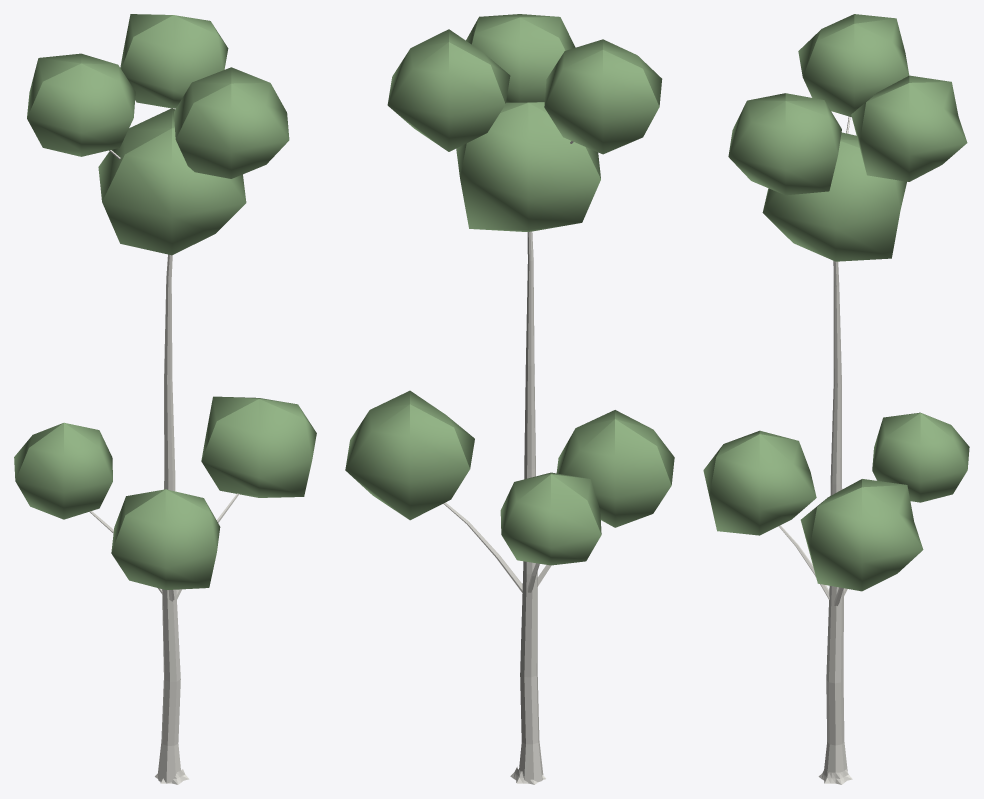
File: dense-temperate-forest-flora-hornbeam-young-2d5dff73__28337.glb
3 views of the same model, side by side, from view 1: azimuth 30°, elevation 25°; view 2: azimuth 150°, elevation 25°; view 3: azimuth 270°, elevation 25° (orthographic). The views are drawn at different scales.
Parts seen in each view (by area): view 1: hornbeam-young; view 2: hornbeam-young; view 3: hornbeam-young.
Part boxes in pixels (x1,y1,x2,y2): hornbeam-young: (14, 14, 316, 784); hornbeam-young: (345, 14, 674, 784); hornbeam-young: (703, 14, 969, 784).
Bounding box in the file's own units: 2.32 × 5.48 × 1.85.
